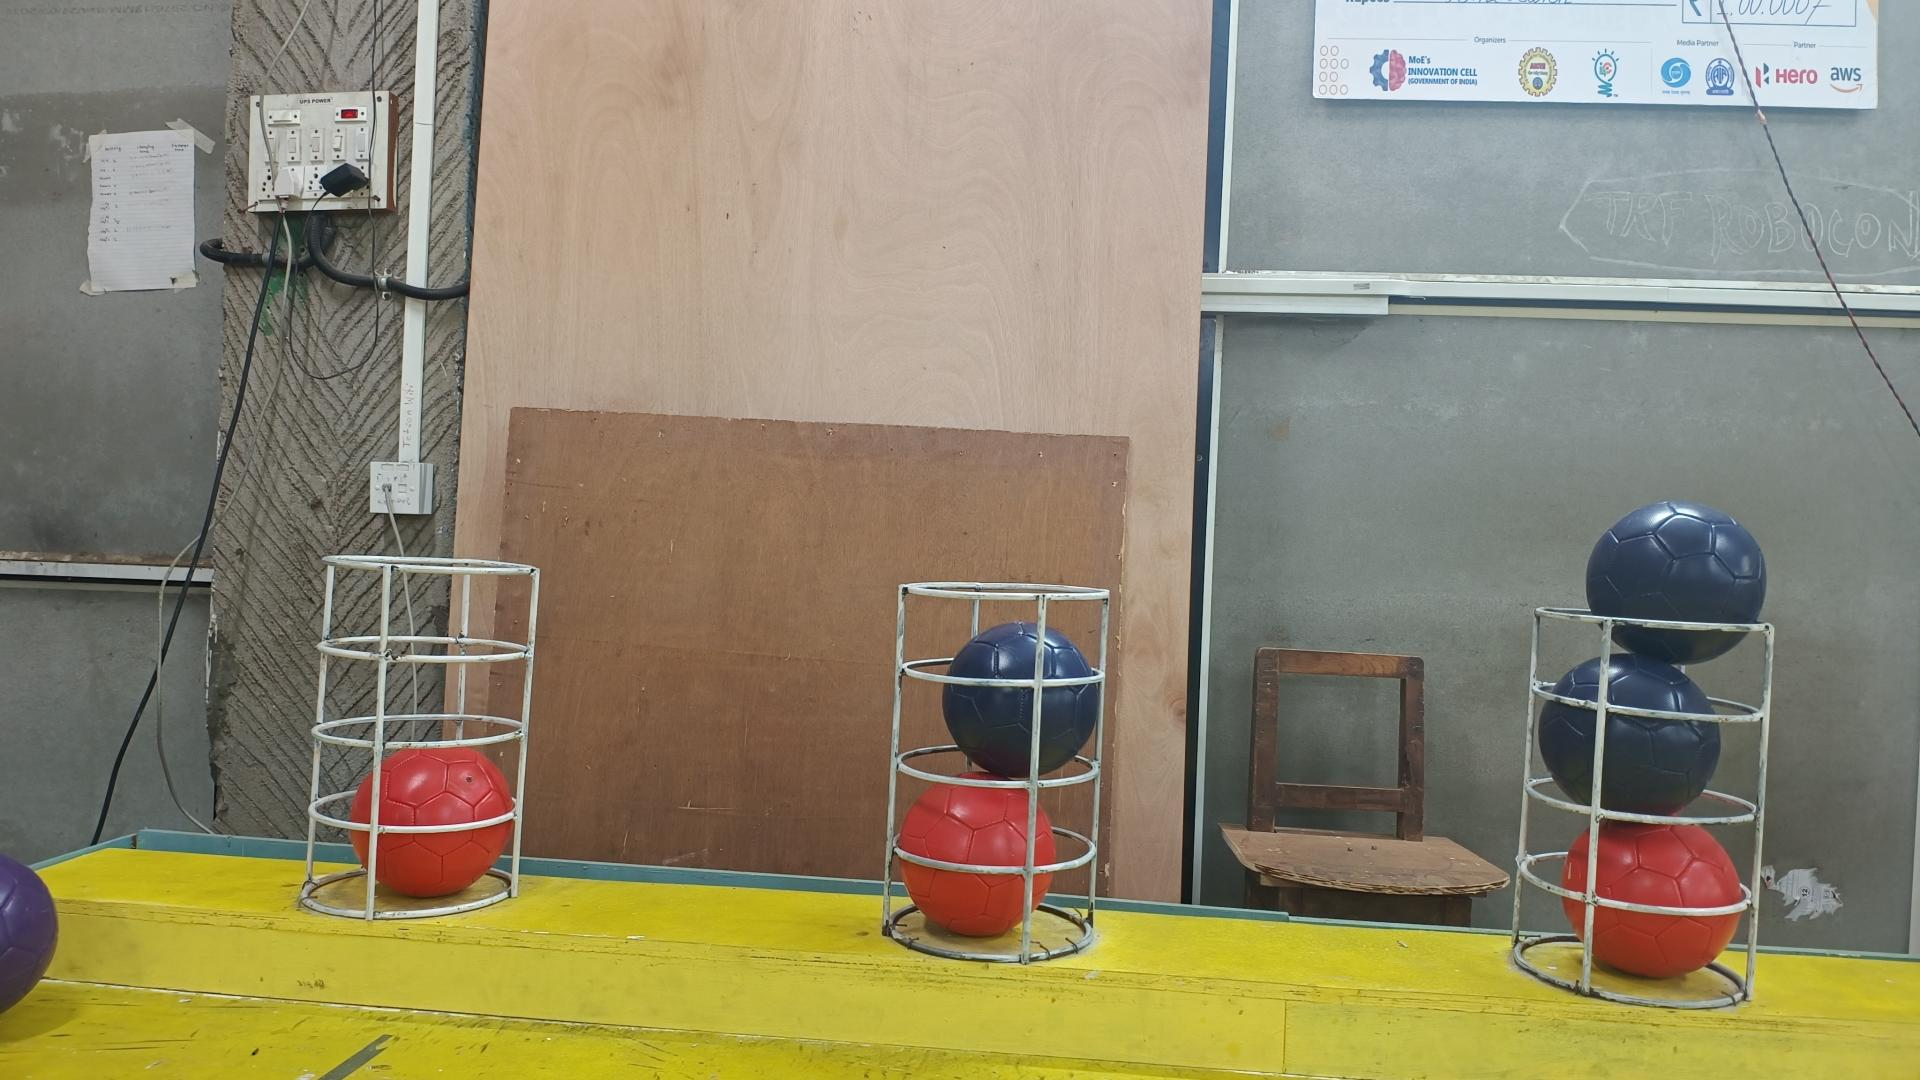dhoka: (1586, 498, 1770, 663), (1538, 649, 1721, 814), (942, 618, 1098, 777)
laale: (1560, 822, 1743, 975), (348, 742, 514, 893), (899, 781, 1058, 934)
